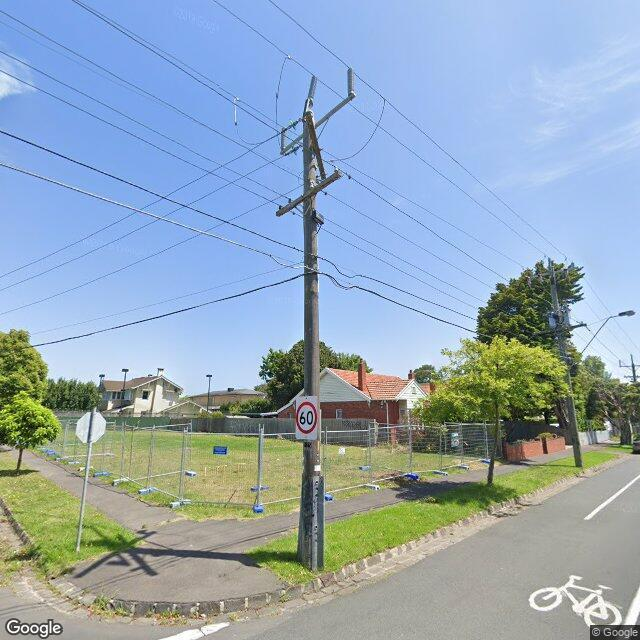HV-transmission: (281, 68, 355, 150), (281, 117, 321, 183), (618, 353, 640, 366)
crossarm: (280, 93, 354, 154), (276, 170, 343, 217), (306, 111, 326, 179), (538, 324, 588, 336), (620, 365, 640, 367), (624, 376, 640, 378)
streetlight: (562, 310, 636, 355)
timber-pole: (300, 110, 322, 570), (548, 261, 582, 467), (631, 353, 636, 383)
